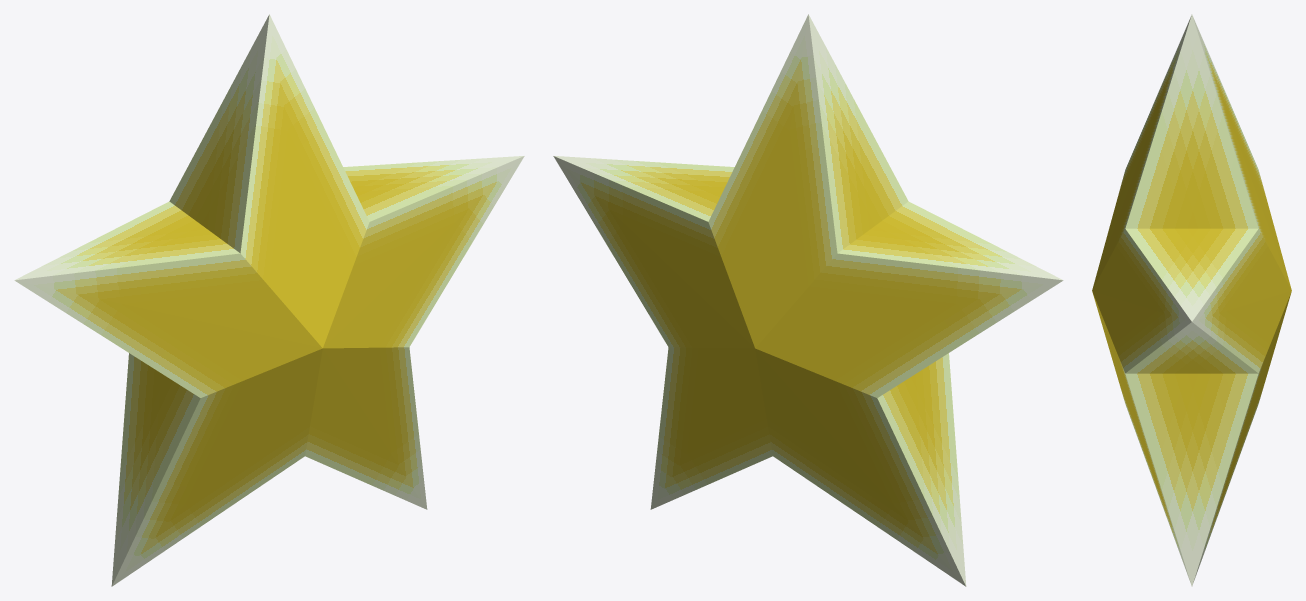
File: SFXobjmark.bgf.obj
3 views of the same model, side by side, from view 1: azimuth 30°, elevation 25°; view 2: azimuth 150°, elevation 25°; view 3: azimuth 270°, elevation 25° (orthographic). The views are drawn at different scales.
Visible parts, largest first — view 1: DUMMY; view 2: DUMMY; view 3: DUMMY.
Boxes of the visible parts, x1,y1,x2,y2 form: DUMMY: (14, 14, 524, 586); DUMMY: (553, 14, 1063, 586); DUMMY: (1092, 14, 1291, 586).
Size of the model in its own units: 5 by 5 by 1.81.
Materials: 1 (1 with a texture image).
